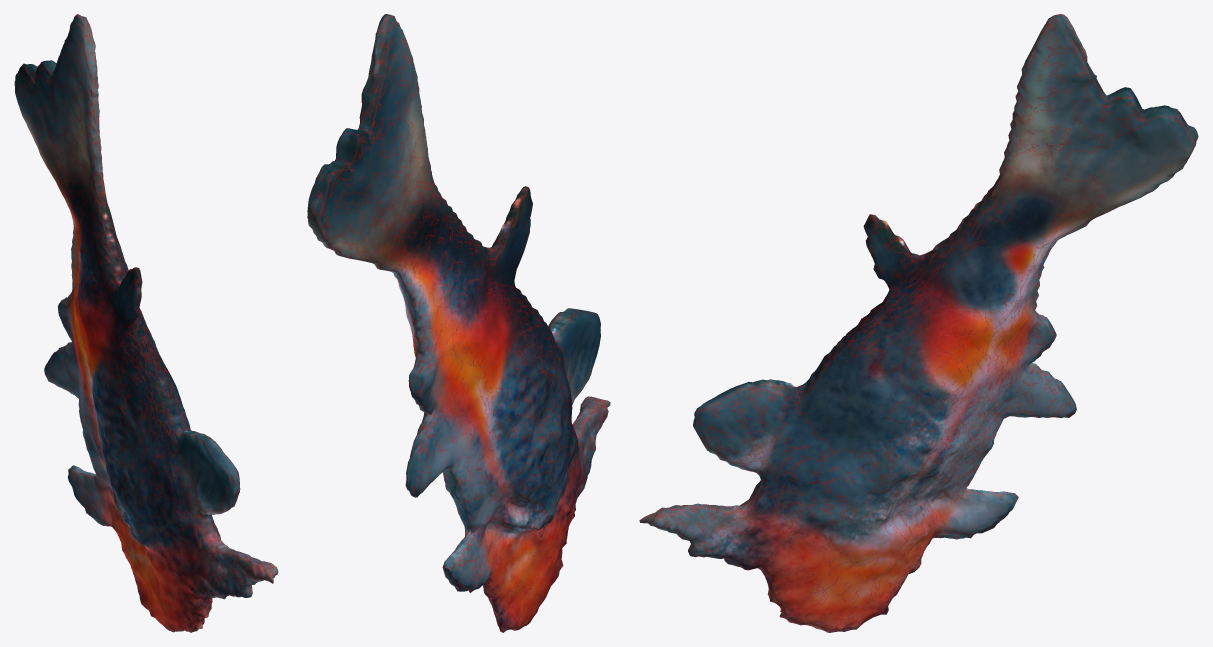
File: fish_after.glb
3 renders of one model, left to right at view 1: azimuth 30°, elevation 25°; view 2: azimuth 150°, elevation 25°; view 3: azimuth 270°, elevation 25°, orthographic. The views are drawn at different scales.
Parts seen in each view (by area): view 1: pose0; view 2: pose0; view 3: pose0.
Part boxes in pixels (box(x1,y1,x2,y2)): pose0: box(14, 14, 278, 632); pose0: box(307, 14, 610, 632); pose0: box(639, 14, 1198, 632).
Bounding box in the file's own units: 0.1697 × 1.32 × 1.07.
1 material, 1 textured.
